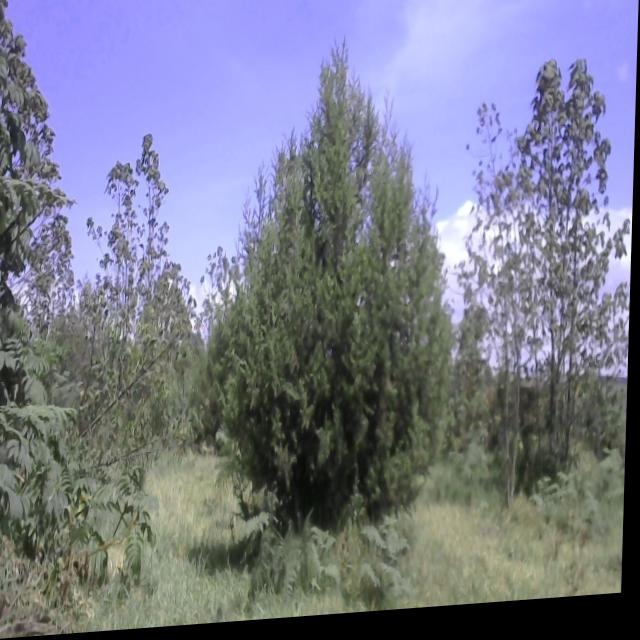Hagenia abyssinica: (0, 0, 168, 635)
cedrus: (180, 44, 464, 560)
other: (458, 50, 638, 536), (91, 112, 190, 444)
